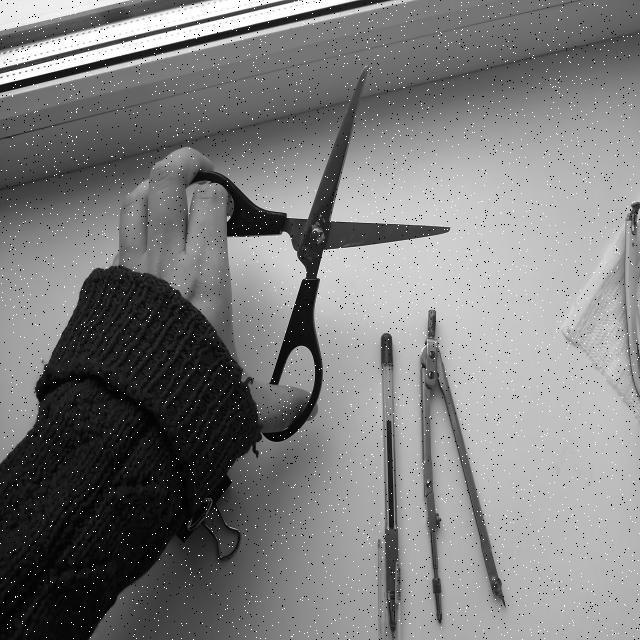scissors: (130, 52, 477, 473)
